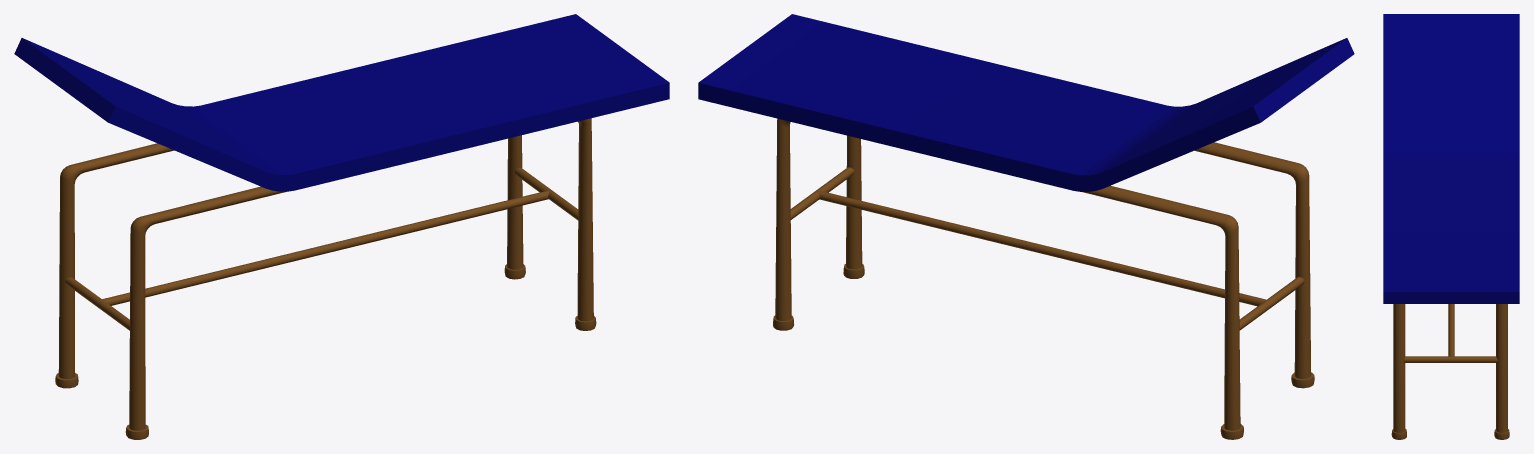
The model's file is Camilla.fbx.
3 renders of one model, left to right at view 1: azimuth 30°, elevation 25°; view 2: azimuth 150°, elevation 25°; view 3: azimuth 270°, elevation 25°, orthographic. The views are drawn at different scales.
Parts seen in each view (by area): view 1: Camilla; view 2: Camilla; view 3: Camilla.
Part boxes in pixels (left/top/right/bottom): Camilla: left=14, top=14, right=669, bottom=439; Camilla: left=698, top=14, right=1354, bottom=439; Camilla: left=1383, top=14, right=1519, bottom=439.
Size of the model in its own units: 330 by 194 by 95.39.
